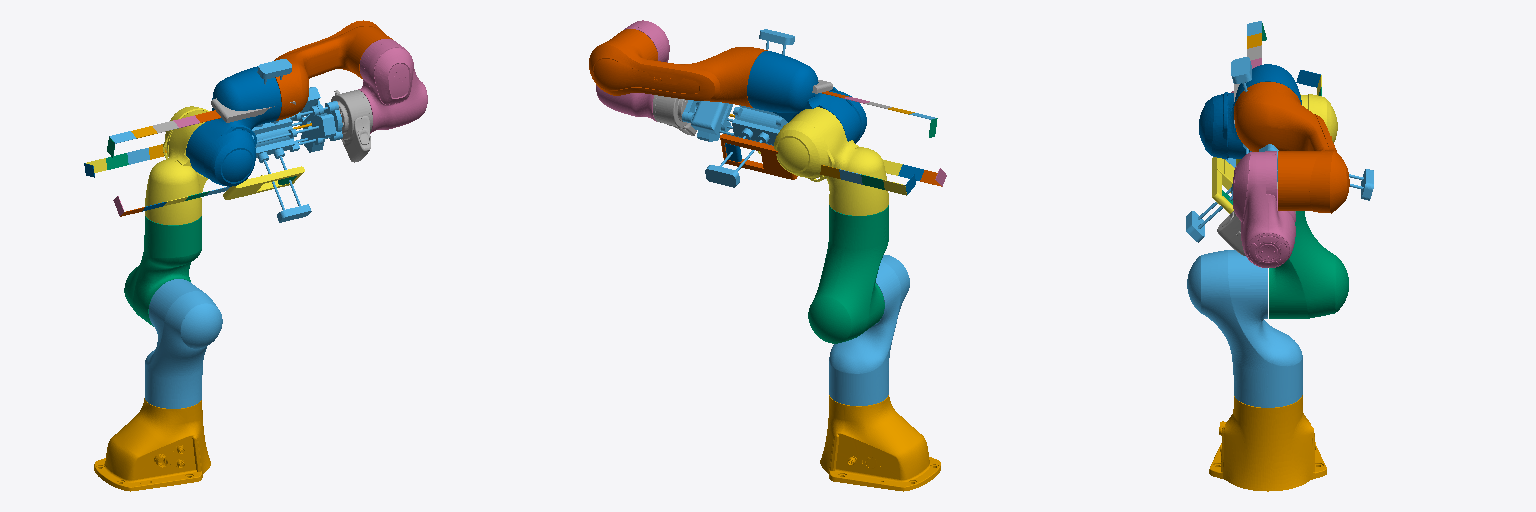
--- What the picture shows (computed from the rendered views, not written in the file) ---
Views: 3 orthographic renders of the robot side by side, from view 1: azimuth 30°, elevation 25°; view 2: azimuth 150°, elevation 25°; view 3: azimuth 270°, elevation 25°.
Model panda_and_gripper with 36 links and 35 joints (25 revolute, 4 prismatic, 6 fixed), rooted at world, posed all joints at 0 but 4 set to mid-range because 0 is outside their limits (panda_joint4 = -1.57, finger_1_prismatic_joint = 0.0915, finger_2_prismatic_joint = 0.0915, finger_3_prismatic_joint = 0.0915).
Visible links, largest first — view 1: panda_link0, panda_link1, panda_link4, panda_link6, gripper_base_link, panda_link5, panda_link2, panda_link3, panda_link7, finger_1, finger_3; view 2: panda_link0, panda_link5, panda_link2, panda_link3, panda_link1, panda_link4, gripper_base_link, panda_link6, finger_2, panda_link7; view 3: panda_link1, panda_link5, panda_link0, panda_link2, panda_link6, panda_link4, gripper_base_link, finger_1, panda_link3, panda_link7.
Link boxes in pixels (left/top/right/bottom): panda_link0: left=94, top=398, right=210, bottom=491; panda_link1: left=145, top=279, right=222, bottom=408; panda_link4: left=186, top=66, right=281, bottom=186; panda_link6: left=358, top=39, right=427, bottom=133; gripper_base_link: left=252, top=59, right=342, bottom=222; panda_link5: left=274, top=20, right=392, bottom=120; panda_link2: left=124, top=216, right=201, bottom=326; panda_link3: left=145, top=106, right=209, bottom=224; panda_link7: left=331, top=90, right=372, bottom=162; finger_1: left=223, top=166, right=304, bottom=199; finger_3: left=211, top=98, right=295, bottom=122; panda_link0: left=820, top=395, right=940, bottom=491; panda_link5: left=589, top=29, right=767, bottom=107; panda_link2: left=808, top=205, right=888, bottom=343; panda_link3: left=774, top=107, right=888, bottom=215; panda_link1: left=829, top=255, right=909, bottom=405; panda_link4: left=747, top=51, right=866, bottom=143; gripper_base_link: left=682, top=29, right=794, bottom=187; panda_link6: left=596, top=20, right=669, bottom=121; finger_2: left=720, top=134, right=797, bottom=179; panda_link7: left=653, top=95, right=696, bottom=135; panda_link1: left=1187, top=250, right=1302, bottom=407; panda_link5: left=1234, top=82, right=1349, bottom=213; panda_link0: left=1209, top=395, right=1326, bottom=491; panda_link2: left=1269, top=211, right=1348, bottom=318; panda_link6: left=1233, top=151, right=1295, bottom=267; panda_link4: left=1199, top=64, right=1301, bottom=159; gripper_base_link: left=1186, top=57, right=1373, bottom=242; finger_1: left=1212, top=157, right=1234, bottom=213; panda_link3: left=1236, top=94, right=1337, bottom=165; panda_link7: left=1217, top=182, right=1295, bottom=255.
Size in the robot's own frame: 0.7022 by 0.301 by 0.8128 metres.
Meshes: 12 distinct files referenced, 16 mesh visuals loaded (12 binary STL).

URDF robot description (panda_and_gripper):
<?xml version="1.0" ?>
<!-- =================================================================================== -->
<!-- |    This document was autogenerated by xacro from panda_and_gripper.urdf.xacro   | -->
<!-- |    EDITING THIS FILE BY HAND IS NOT RECOMMENDED                                 | -->
<!-- =================================================================================== -->
<robot name="panda_and_gripper">
  <!-- <link name="world" />
    <xacro:unless value="${not connected_to}">
      <joint name="virtual_joint" type="fixed">
        <parent link="${connected_to}"/>
        <child link="${arm_id}_link0"/>
        <origin rpy="${rpy}" xyz="${xyz}"/>
        <dynamics damping="1.0"/>
      </joint>
    </xacro:unless> -->
  <!-- PARAMETERS TO SET BY HAND -->
  <!-- END OF PARAMETERS TO SET BY HAND -->
  <!-- original working mesh links -->
  <!--    <xacro:arm_link number="0" visual_mesh="package://${mesh_folder}/visual/link0.dae"-->
  <!--      collision_mesh="package://${mesh_folder}/collision/link0.stl" mass="3.06"/>-->
  <!--    <xacro:arm_link number="1" visual_mesh="package://${mesh_folder}/visual/link1.dae"-->
  <!--      collision_mesh="package://${mesh_folder}/collision/link1.stl" mass="2.34"/>-->
  <!--    <xacro:arm_link number="2" visual_mesh="package://${mesh_folder}/visual/link2.dae"-->
  <!--      collision_mesh="package://${mesh_folder}/collision/link2.stl" mass="2.36"/>-->
  <!--    <xacro:arm_link number="3" visual_mesh="package://${mesh_folder}/visual/link3.dae"-->
  <!--      collision_mesh="package://${mesh_folder}/collision/link3.stl" mass="2.38"/>-->
  <!--    <xacro:arm_link number="4" visual_mesh="package://${mesh_folder}/visual/link4.dae"-->
  <!--      collision_mesh="package://${mesh_folder}/collision/link4.stl" mass="2.43"/>-->
  <!--    <xacro:arm_link number="5" visual_mesh="package://${mesh_folder}/visual/link5.dae"-->
  <!--      collision_mesh="package://${mesh_folder}/collision/link5.stl" mass="3.5"/>-->
  <!--    <xacro:arm_link number="6" visual_mesh="package://${mesh_folder}/visual/link6.dae"-->
  <!--      collision_mesh="package://${mesh_folder}/collision/link6.stl" mass="1.47"/>-->
  <!--    <xacro:arm_link number="7" visual_mesh="package://${mesh_folder}/visual/link7.dae"-->
  <!--      collision_mesh="package://${mesh_folder}/collision/link7.stl" mass="0.45"/>-->
  <!--     <xacro:arm_link number="8"/>-->
  <link name="panda_link0">
    <visual>
      <geometry>
        <mesh filename="package://gripper_description/meshes_panda/panda visual link0.stl"/>
      </geometry>
    </visual>
    <collision>
      <geometry>
        <mesh filename="package://gripper_description/meshes_panda/panda collision link0.stl"/>
      </geometry>
    </collision>
    <inertial>
      <origin rpy="0 0 0" xyz="0 0 0"/>
      <mass value="3.06"/>
      <inertia ixx="0.3" ixy="0.0" ixz="0.0" iyy="0.3" iyz="0.0" izz="0.3"/>
    </inertial>
  </link>
  <link name="panda_link1">
    <visual>
      <geometry>
        <mesh filename="package://gripper_description/meshes_panda/panda visual link1.stl"/>
      </geometry>
    </visual>
    <collision>
      <geometry>
        <mesh filename="package://gripper_description/meshes_panda/panda collision link1.stl"/>
      </geometry>
    </collision>
    <inertial>
      <origin rpy="0 0 0" xyz="0 0 0"/>
      <mass value="2.34"/>
      <inertia ixx="7.0337e-01" ixy="-1.3900e-04" ixz="6.7720e-03" iyy="7.0661e-01" iyz="1.9169e-02" izz="9.1170e-03"/>
    </inertial>
  </link>
  <link name="panda_link2">
    <visual>
      <geometry>
        <mesh filename="package://gripper_description/meshes_panda/panda visual link2.stl"/>
      </geometry>
    </visual>
    <collision>
      <geometry>
        <mesh filename="package://gripper_description/meshes_panda/panda collision link2.stl"/>
      </geometry>
    </collision>
    <inertial>
      <origin rpy="0 0 0" xyz="0 0 0"/>
      <mass value="2.36"/>
      <inertia ixx="7.9620e-03" ixy="-3.9250e-03" ixz="1.0254e-02" iyy="2.8110e-02" iyz="7.0400e-04" izz="2.5995e-02"/>
    </inertial>
  </link>
  <link name="panda_link3">
    <visual>
      <geometry>
        <mesh filename="package://gripper_description/meshes_panda/panda visual link3.stl"/>
      </geometry>
    </visual>
    <collision>
      <geometry>
        <mesh filename="package://gripper_description/meshes_panda/panda collision link3.stl"/>
      </geometry>
    </collision>
    <inertial>
      <origin rpy="0 0 0" xyz="0 0 0"/>
      <mass value="2.38"/>
      <inertia ixx="3.7242e-02" ixy="-4.7610e-03" ixz="-1.1396e-02" iyy="3.6155e-02" iyz="-1.2805e-02" izz="1.0830e-02"/>
    </inertial>
  </link>
  <link name="panda_link4">
    <visual>
      <geometry>
        <mesh filename="package://gripper_description/meshes_panda/panda visual link4.stl"/>
      </geometry>
    </visual>
    <collision>
      <geometry>
        <mesh filename="package://gripper_description/meshes_panda/panda collision link4.stl"/>
      </geometry>
    </collision>
    <inertial>
      <origin rpy="0 0 0" xyz="0 0 0"/>
      <mass value="2.43"/>
      <inertia ixx="2.5853e-02" ixy="7.7960e-03" ixz="-1.3320e-03" iyy="1.9552e-02" iyz="8.6410e-03" izz="2.8323e-02"/>
    </inertial>
  </link>
  <link name="panda_link5">
    <visual>
      <geometry>
        <mesh filename="package://gripper_description/meshes_panda/panda visual link5.stl"/>
      </geometry>
    </visual>
    <collision>
      <geometry>
        <mesh filename="package://gripper_description/meshes_panda/panda collision link5.stl"/>
      </geometry>
    </collision>
    <inertial>
      <origin rpy="0 0 0" xyz="0 0 0"/>
      <mass value="3.5"/>
      <inertia ixx="3.5549e-02" ixy="-2.1170e-03" ixz="-4.0370e-03" iyy="2.9474e-02" iyz="2.2900e-04" izz="8.6270e-03"/>
    </inertial>
  </link>
  <link name="panda_link6">
    <visual>
      <geometry>
        <mesh filename="package://gripper_description/meshes_panda/panda visual link6.stl"/>
      </geometry>
    </visual>
    <collision>
      <geometry>
        <mesh filename="package://gripper_description/meshes_panda/panda collision link6.stl"/>
      </geometry>
    </collision>
    <inertial>
      <origin rpy="0 0 0" xyz="0 0 0"/>
      <mass value="1.47"/>
      <inertia ixx="1.9640e-03" ixy="1.0900e-04" ixz="-1.1580e-03" iyy="4.3540e-03" iyz="3.4100e-04" izz="5.4330e-03"/>
    </inertial>
  </link>
  <link name="panda_link7">
    <visual>
      <geometry>
        <mesh filename="package://gripper_description/meshes_panda/panda visual link7.stl"/>
      </geometry>
    </visual>
    <collision>
      <geometry>
        <mesh filename="package://gripper_description/meshes_panda/panda collision link7.stl"/>
      </geometry>
    </collision>
    <inertial>
      <origin rpy="0 0 0" xyz="0 0 0"/>
      <mass value="0.45"/>
      <inertia ixx="1.2516e-02" ixy="-4.2800e-04" ixz="-1.1960e-03" iyy="1.0027e-02" iyz="-7.4100e-04" izz="4.8150e-03"/>
    </inertial>
  </link>
  <link name="panda_link8">
    <inertial>
      <origin rpy="0 0 0" xyz="0 0 0"/>
      <mass value="0.0"/>
      <inertia ixx="1e-4" ixy="0.0" ixz="0.0" iyy="1e-4" iyz="0.0" izz="1e-4"/>
    </inertial>
  </link>
  <!-- joint6 limit lower = -0.0175 -->
  <joint name="panda_joint1" type="revolute">
    <safety_controller k_position="100.0" k_velocity="40.0" soft_lower_limit="-2.8973" soft_upper_limit="2.8973"/>
    <origin rpy="0 0 0" xyz="0 0 0.333"/>
    <parent link="panda_link0"/>
    <child link="panda_link1"/>
    <limit effort="87" lower="-2.8973" upper="2.8973" velocity="2.175"/>
    <axis xyz="0 0 1"/>
    <dynamics damping="1.0" friction="0.1"/>
  </joint>
  <joint name="panda_joint2" type="revolute">
    <safety_controller k_position="100.0" k_velocity="40.0" soft_lower_limit="-1.7628" soft_upper_limit="1.7628"/>
    <origin rpy="-1.5707963267948966 0 0" xyz="0 0 0"/>
    <parent link="panda_link1"/>
    <child link="panda_link2"/>
    <limit effort="87" lower="-1.7628" upper="1.7628" velocity="2.175"/>
    <axis xyz="0 0 1"/>
    <dynamics damping="1.0" friction="0.1"/>
  </joint>
  <joint name="panda_joint3" type="revolute">
    <safety_controller k_position="100.0" k_velocity="40.0" soft_lower_limit="-2.8973" soft_upper_limit="2.8973"/>
    <origin rpy="1.5707963267948966 0 0" xyz="0 -0.316 0"/>
    <parent link="panda_link2"/>
    <child link="panda_link3"/>
    <limit effort="87" lower="-2.8973" upper="2.8973" velocity="2.175"/>
    <axis xyz="0 0 1"/>
    <dynamics damping="1.0" friction="0.1"/>
  </joint>
  <joint name="panda_joint4" type="revolute">
    <safety_controller k_position="100.0" k_velocity="40.0" soft_lower_limit="-3.0718" soft_upper_limit="-0.0698"/>
    <origin rpy="1.5707963267948966 0 0" xyz="0.0825 0 0"/>
    <parent link="panda_link3"/>
    <child link="panda_link4"/>
    <limit effort="87" lower="-3.0718" upper="-0.0698" velocity="2.175"/>
    <axis xyz="0 0 1"/>
    <dynamics damping="1.0" friction="0.1"/>
  </joint>
  <joint name="panda_joint5" type="revolute">
    <safety_controller k_position="100.0" k_velocity="40.0" soft_lower_limit="-2.8973" soft_upper_limit="2.8973"/>
    <origin rpy="-1.5707963267948966 0 0" xyz="-0.0825 0.384 0"/>
    <parent link="panda_link4"/>
    <child link="panda_link5"/>
    <limit effort="12" lower="-2.8973" upper="2.8973" velocity="2.61"/>
    <axis xyz="0 0 1"/>
    <dynamics damping="1.0" friction="0.1"/>
  </joint>
  <joint name="panda_joint6" type="revolute">
    <safety_controller k_position="100.0" k_velocity="40.0" soft_lower_limit="-0.0175" soft_upper_limit="3.7525"/>
    <origin rpy="1.5707963267948966 0 0" xyz="0 0 0"/>
    <parent link="panda_link5"/>
    <child link="panda_link6"/>
    <limit effort="12" lower="-0.0175" upper="3.7525" velocity="2.61"/>
    <axis xyz="0 0 1"/>
    <dynamics damping="1.0" friction="0.1"/>
  </joint>
  <joint name="panda_joint7" type="revolute">
    <safety_controller k_position="100.0" k_velocity="40.0" soft_lower_limit="-2.8973" soft_upper_limit="2.8973"/>
    <origin rpy="1.5707963267948966 0 0" xyz="0.088 0 0"/>
    <parent link="panda_link6"/>
    <child link="panda_link7"/>
    <limit effort="12" lower="-2.8973" upper="2.8973" velocity="2.61"/>
    <axis xyz="0 0 1"/>
    <dynamics damping="1.0" friction="0.1"/>
  </joint>
  <joint name="panda_joint8" type="fixed">
    <origin rpy="0 0 0" xyz="0 0 0.107"/>
    <parent link="panda_link7"/>
    <child link="panda_link8"/>
    <axis xyz="0 0 0"/>
    <dynamics damping="1.0" friction="0.1"/>
  </joint>
  <gazebo reference="panda_link0">
    <material>Gazebo/White</material>
    <mu1>0.2</mu1>
    <mu2>0.2</mu2>
  </gazebo>
  <gazebo reference="panda_link1">
    <material>Gazebo/White</material>
    <mu1>0.2</mu1>
    <mu2>0.2</mu2>
  </gazebo>
  <gazebo reference="panda_link2">
    <material>Gazebo/White</material>
    <mu1>0.2</mu1>
    <mu2>0.2</mu2>
  </gazebo>
  <gazebo reference="panda_link3">
    <material>Gazebo/White</material>
    <mu1>0.2</mu1>
    <mu2>0.2</mu2>
  </gazebo>
  <gazebo reference="panda_link4">
    <material>Gazebo/White</material>
    <mu1>0.2</mu1>
    <mu2>0.2</mu2>
  </gazebo>
  <gazebo reference="panda_link5">
    <material>Gazebo/White</material>
    <mu1>0.2</mu1>
    <mu2>0.2</mu2>
  </gazebo>
  <gazebo reference="panda_link6">
    <material>Gazebo/White</material>
    <mu1>0.2</mu1>
    <mu2>0.2</mu2>
  </gazebo>
  <gazebo reference="gripper_base_link">
    <material>Gazebo/Grey</material>
    <mu1>0.2</mu1>
    <mu2>0.2</mu2>
  </gazebo>
  <gazebo reference="finger_1_intermediate">
    <material>Gazebo/Grey</material>
    <mu1>0.2</mu1>
    <mu2>0.2</mu2>
  </gazebo>
  <gazebo reference="finger_1">
    <material>Gazebo/Grey</material>
    <mu1>0.2</mu1>
    <mu2>0.2</mu2>
  </gazebo>
  <gazebo reference="finger_2_intermediate">
    <material>Gazebo/Grey</material>
    <mu1>0.2</mu1>
    <mu2>0.2</mu2>
  </gazebo>
  <gazebo reference="finger_2">
    <material>Gazebo/Grey</material>
    <mu1>0.2</mu1>
    <mu2>0.2</mu2>
  </gazebo>
  <gazebo reference="finger_3_intermediate">
    <material>Gazebo/Grey</material>
    <mu1>0.2</mu1>
    <mu2>0.2</mu2>
  </gazebo>
  <gazebo reference="finger_3">
    <material>Gazebo/Grey</material>
    <mu1>0.2</mu1>
    <mu2>0.2</mu2>
  </gazebo>
  <gazebo reference="palm">
    <material>Gazebo/Grey</material>
    <mu1>0.2</mu1>
    <mu2>0.2</mu2>
  </gazebo>
  <transmission name="panda_tran_1">
    <type>transmission_interface/SimpleTransmission</type>
    <joint name="panda_joint1">
      <!-- <hardwareInterface>hardware_interface/EffortJointInterface</hardwareInterface> -->
      <hardwareInterface>hardware_interface/PositionJointInterface</hardwareInterface>
    </joint>
    <actuator name="panda_motor_1">
      <!-- <hardwareInterface>hardware_interface/EffortJointInterface</hardwareInterface> -->
      <hardwareInterface>hardware_interface/PositionJointInterface</hardwareInterface>
      <mechanicalReduction>1</mechanicalReduction>
    </actuator>
  </transmission>
  <transmission name="panda_tran_2">
    <type>transmission_interface/SimpleTransmission</type>
    <joint name="panda_joint2">
      <!-- <hardwareInterface>hardware_interface/EffortJointInterface</hardwareInterface> -->
      <hardwareInterface>hardware_interface/PositionJointInterface</hardwareInterface>
    </joint>
    <actuator name="panda_motor_2">
      <!-- <hardwareInterface>hardware_interface/EffortJointInterface</hardwareInterface> -->
      <hardwareInterface>hardware_interface/PositionJointInterface</hardwareInterface>
      <mechanicalReduction>1</mechanicalReduction>
    </actuator>
  </transmission>
  <transmission name="panda_tran_3">
    <type>transmission_interface/SimpleTransmission</type>
    <joint name="panda_joint3">
      <!-- <hardwareInterface>hardware_interface/EffortJointInterface</hardwareInterface> -->
      <hardwareInterface>hardware_interface/PositionJointInterface</hardwareInterface>
    </joint>
    <actuator name="panda_motor_3">
      <!-- <hardwareInterface>hardware_interface/EffortJointInterface</hardwareInterface> -->
      <hardwareInterface>hardware_interface/PositionJointInterface</hardwareInterface>
      <mechanicalReduction>1</mechanicalReduction>
    </actuator>
  </transmission>
  <transmission name="panda_tran_4">
    <type>transmission_interface/SimpleTransmission</type>
    <joint name="panda_joint4">
      <!-- <hardwareInterface>hardware_interface/EffortJointInterface</hardwareInterface> -->
      <hardwareInterface>hardware_interface/PositionJointInterface</hardwareInterface>
    </joint>
    <actuator name="panda_motor_4">
      <!-- <hardwareInterface>hardware_interface/EffortJointInterface</hardwareInterface> -->
      <hardwareInterface>hardware_interface/PositionJointInterface</hardwareInterface>
      <mechanicalReduction>1</mechanicalReduction>
    </actuator>
  </transmission>
  <transmission name="panda_tran_5">
    <type>transmission_interface/SimpleTransmission</type>
    <joint name="panda_joint5">
      <!-- <hardwareInterface>hardware_interface/EffortJointInterface</hardwareInterface> -->
      <hardwareInterface>hardware_interface/PositionJointInterface</hardwareInterface>
    </joint>
    <actuator name="panda_motor_5">
      <!-- <hardwareInterface>hardware_interface/EffortJointInterface</hardwareInterface> -->
      <hardwareInterface>hardware_interface/PositionJointInterface</hardwareInterface>
      <mechanicalReduction>1</mechanicalReduction>
    </actuator>
  </transmission>
  <transmission name="panda_tran_6">
    <type>transmission_interface/SimpleTransmission</type>
    <joint name="panda_joint6">
      <!-- <hardwareInterface>hardware_interface/EffortJointInterface</hardwareInterface> -->
      <hardwareInterface>hardware_interface/PositionJointInterface</hardwareInterface>
    </joint>
    <actuator name="panda_motor_6">
      <!-- <hardwareInterface>hardware_interface/EffortJointInterface</hardwareInterface> -->
      <hardwareInterface>hardware_interface/PositionJointInterface</hardwareInterface>
      <mechanicalReduction>1</mechanicalReduction>
    </actuator>
  </transmission>
  <transmission name="panda_tran_7">
    <type>transmission_interface/SimpleTransmission</type>
    <joint name="panda_joint7">
      <!-- <hardwareInterface>hardware_interface/EffortJointInterface</hardwareInterface> -->
      <hardwareInterface>hardware_interface/PositionJointInterface</hardwareInterface>
    </joint>
    <actuator name="panda_motor_7">
      <!-- <hardwareInterface>hardware_interface/EffortJointInterface</hardwareInterface> -->
      <hardwareInterface>hardware_interface/PositionJointInterface</hardwareInterface>
      <mechanicalReduction>1</mechanicalReduction>
    </actuator>
  </transmission>
  <transmission name="panda_tran_8">
    <type>transmission_interface/SimpleTransmission</type>
    <joint name="finger_1_revolute_joint">
      <!-- <hardwareInterface>hardware_interface/EffortJointInterface</hardwareInterface> -->
      <hardwareInterface>hardware_interface/PositionJointInterface</hardwareInterface>
    </joint>
    <actuator name="panda_motor_8">
      <!-- <hardwareInterface>hardware_interface/EffortJointInterface</hardwareInterface> -->
      <hardwareInterface>hardware_interface/PositionJointInterface</hardwareInterface>
      <mechanicalReduction>1</mechanicalReduction>
    </actuator>
  </transmission>
  <transmission name="panda_tran_9">
    <type>transmission_interface/SimpleTransmission</type>
    <joint name="finger_1_prismatic_joint">
      <!-- <hardwareInterface>hardware_interface/EffortJointInterface</hardwareInterface> -->
      <hardwareInterface>hardware_interface/PositionJointInterface</hardwareInterface>
    </joint>
    <actuator name="panda_motor_9">
      <!-- <hardwareInterface>hardware_interface/EffortJointInterface</hardwareInterface> -->
      <hardwareInterface>hardware_interface/PositionJointInterface</hardwareInterface>
      <mechanicalReduction>1</mechanicalReduction>
    </actuator>
  </transmission>
  <transmission name="panda_tran_10">
    <type>transmission_interface/SimpleTransmission</type>
    <joint name="finger_2_revolute_joint">
      <!-- <hardwareInterface>hardware_interface/EffortJointInterface</hardwareInterface> -->
      <hardwareInterface>hardware_interface/PositionJointInterface</hardwareInterface>
    </joint>
    <actuator name="panda_motor_10">
      <!-- <hardwareInterface>hardware_interface/EffortJointInterface</hardwareInterface> -->
      <hardwareInterface>hardware_interface/PositionJointInterface</hardwareInterface>
      <mechanicalReduction>1</mechanicalReduction>
    </actuator>
  </transmission>
  <transmission name="panda_tran_11">
    <type>transmission_interface/SimpleTransmission</type>
    <joint name="finger_2_prismatic_joint">
      <!-- <hardwareInterface>hardware_interface/EffortJointInterface</hardwareInterface> -->
      <hardwareInterface>hardware_interface/PositionJointInterface</hardwareInterface>
    </joint>
    <actuator name="panda_motor_11">
      <!-- <hardwareInterface>hardware_interface/EffortJointInterface</hardwareInterface> -->
      <hardwareInterface>hardware_interface/PositionJointInterface</hardwareInterface>
      <mechanicalReduction>1</mechanicalReduction>
    </actuator>
  </transmission>
  <transmission name="panda_tran_12">
    <type>transmission_interface/SimpleTransmission</type>
    <joint name="finger_3_revolute_joint">
      <!-- <hardwareInterface>hardware_interface/EffortJointInterface</hardwareInterface> -->
      <hardwareInterface>hardware_interface/PositionJointInterface</hardwareInterface>
    </joint>
    <actuator name="panda_motor_12">
      <!-- <hardwareInterface>hardware_interface/EffortJointInterface</hardwareInterface> -->
      <hardwareInterface>hardware_interface/PositionJointInterface</hardwareInterface>
      <mechanicalReduction>1</mechanicalReduction>
    </actuator>
  </transmission>
  <transmission name="panda_tran_13">
    <type>transmission_interface/SimpleTransmission</type>
    <joint name="finger_3_prismatic_joint">
      <!-- <hardwareInterface>hardware_interface/EffortJointInterface</hardwareInterface> -->
      <hardwareInterface>hardware_interface/PositionJointInterface</hardwareInterface>
    </joint>
    <actuator name="panda_motor_13">
      <!-- <hardwareInterface>hardware_interface/EffortJointInterface</hardwareInterface> -->
      <hardwareInterface>hardware_interface/PositionJointInterface</hardwareInterface>
      <mechanicalReduction>1</mechanicalReduction>
    </actuator>
  </transmission>
  <transmission name="panda_tran_14">
    <type>transmission_interface/SimpleTransmission</type>
    <joint name="palm_prismatic_joint">
      <!-- <hardwareInterface>hardware_interface/EffortJointInterface</hardwareInterface> -->
      <hardwareInterface>hardware_interface/PositionJointInterface</hardwareInterface>
    </joint>
    <actuator name="panda_motor_14">
      <!-- <hardwareInterface>hardware_interface/EffortJointInterface</hardwareInterface> -->
      <hardwareInterface>hardware_interface/PositionJointInterface</hardwareInterface>
      <mechanicalReduction>1</mechanicalReduction>
    </actuator>
  </transmission>
  <gazebo>
    <plugin filename="libgazebo_ros_control.so" name="gazebo_ros_control">
      <!--            	<robotNamespace>/gripper_controller</robotNamespace>-->
    </plugin>
  </gazebo>
  <!-- PARAMETERS TO BE SET BY HAND -->
  <!-- END OF PARAMETERS TO BE SET BY HAND -->
  <!-- PARAMETERS TO BE SET BY HAND -->
  <!-- END OF PARAMETER TO BE SET BY HAND -->
  <!-- BASE LINK -->
  <link name="gripper_base_link">
    <inertial>
      <mass value="1.5"/>
      <origin rpy="3.141592653589793 0 0" xyz="0 0 0.025"/>
      <inertia ixx="9.95e-3" ixy="2.73e-6" ixz="-14.32e-6" iyy="10.08e-3" iyz="121.38e-6" izz="5.13e-3"/>
    </inertial>
    <visual>
      <geometry>
        <mesh filename="package://gripper_description/meshes/main body visual.STL"/>
      </geometry>
    </visual>
    <collision>
      <geometry>
        <!--          <mesh filename="package://gripper_description/meshes/main body collision.STL"/>-->
        <cylinder length="0.1" radius="0.03"/>
      </geometry>
    </collision>
  </link>
  <!-- Intermediate link for prismatic joint -->
  <link name="finger_1_intermediate">
    <inertial>
      <mass value="0.1"/>
      <origin rpy="0 0 0" xyz="0 0 0"/>
      <inertia ixx="55.59e-6" ixy="-47.23e-6" ixz="1.16e-6" iyy="146.36e-6" iyz="1.00e-6" izz="154.18e-6"/>
    </inertial>
    <visual>
      <geometry>
        <mesh filename="package://gripper_description/meshes/nut visual.STL"/>
      </geometry>
    </visual>
    <collision>
      <geometry>
        <mesh filename="package://gripper_description/meshes/nut collision.STL"/>
      </geometry>
    </collision>
  </link>
  <!-- Main finger link -->
  <link name="finger_1">
    <inertial>
      <mass value="0.1"/>
      <origin rpy="0 0 0" xyz="0 0 0"/>
      <inertia ixx="55.59e-6" ixy="-47.23e-6" ixz="1.16e-6" iyy="146.36e-6" iyz="1.00e-6" izz="154.18e-6"/>
    </inertial>
    <visual>
      <geometry>
        <mesh filename="package://gripper_description/meshes/platform only visual.STL"/>
      </geometry>
    </visual>
    <collision>
      <geometry>
        <mesh filename="package://gripper_description/meshes/platform only collision.STL"/>
      </geometry>
    </collision>
  </link>
  <joint name="finger_1_prismatic_joint" type="prismatic">
    <axis rpy="0 0 0" xyz="0 1 0"/>
    <parent link="gripper_base_link"/>
    <child link="finger_1_intermediate"/>
    <origin rpy="4.71238898038469                    4.71238898038469                    1.5707963267948966" xyz="0.0                    0.0                    0"/>
    <limit effort="40.0" lower="0.049" upper="0.134" velocity="0.015"/>
    <dynamics damping="1.0"/>
  </joint>
  <joint name="finger_1_revolute_joint" type="revolute">
    <axis rpy="0 0 0" xyz="0 0 1"/>
    <parent link="finger_1_intermediate"/>
    <child link="finger_1"/>
    <origin rpy="0 0 0.0" xyz="0 0 0"/>
    <limit effort="40.0" lower="-0.7" upper="0.7" velocity="0.1"/>
    <dynamics damping="1.0"/>
  </joint>
  <!-- Intermediate link for prismatic joint -->
  <link name="finger_2_intermediate">
    <inertial>
      <mass value="0.1"/>
      <origin rpy="0 0 0" xyz="0 0 0"/>
      <inertia ixx="55.59e-6" ixy="-47.23e-6" ixz="1.16e-6" iyy="146.36e-6" iyz="1.00e-6" izz="154.18e-6"/>
    </inertial>
    <visual>
      <geometry>
        <mesh filename="package://gripper_description/meshes/nut visual.STL"/>
      </geometry>
    </visual>
    <collision>
      <geometry>
        <mesh filename="package://gripper_description/meshes/nut collision.STL"/>
      </geometry>
    </collision>
  </link>
  <!-- Main finger link -->
  <link name="finger_2">
    <inertial>
      <mass value="0.1"/>
      <origin rpy="0 0 0" xyz="0 0 0"/>
      <inertia ixx="55.59e-6" ixy="-47.23e-6" ixz="1.16e-6" iyy="146.36e-6" iyz="1.00e-6" izz="154.18e-6"/>
    </inertial>
    <visual>
      <geometry>
        <mesh filename="package://gripper_description/meshes/platform only visual.STL"/>
      </geometry>
    </visual>
    <collision>
      <geometry>
        <mesh filename="package://gripper_description/meshes/platform only collision.STL"/>
      </geometry>
    </collision>
  </link>
  <joint name="finger_2_prismatic_joint" type="prismatic">
    <axis rpy="0 0 0" xyz="0 1 0"/>
    <parent link="gripper_base_link"/>
    <child link="finger_2_intermediate"/>
    <origin rpy="4.71238898038469                    4.71238898038469                    -0.5235987755982987" xyz="0.0                    -0.0                    0"/>
    <limit effort="40.0" lower="0.049" upper="0.134" velocity="0.015"/>
    <dynamics damping="1.0"/>
  </joint>
  <joint name="finger_2_revolute_joint" type="revolute">
    <axis rpy="0 0 0" xyz="0 0 1"/>
    <parent link="finger_2_intermediate"/>
    <child link="finger_2"/>
    <origin rpy="0 0 0.0" xyz="0 0 0"/>
    <limit effort="40.0" lower="-0.7" upper="0.7" velocity="0.1"/>
    <dynamics damping="1.0"/>
  </joint>
  <!-- Intermediate link for prismatic joint -->
  <link name="finger_3_intermediate">
    <inertial>
      <mass value="0.1"/>
      <origin rpy="0 0 0" xyz="0 0 0"/>
      <inertia ixx="55.59e-6" ixy="-47.23e-6" ixz="1.16e-6" iyy="146.36e-6" iyz="1.00e-6" izz="154.18e-6"/>
    </inertial>
    <visual>
      <geometry>
        <mesh filename="package://gripper_description/meshes/nut visual.STL"/>
      </geometry>
    </visual>
    <collision>
      <geometry>
        <mesh filename="package://gripper_description/meshes/nut collision.STL"/>
      </geometry>
    </collision>
  </link>
  <!-- Main finger link -->
  <link name="finger_3">
    <inertial>
      <mass value="0.1"/>
      <origin rpy="0 0 0" xyz="0 0 0"/>
      <inertia ixx="55.59e-6" ixy="-47.23e-6" ixz="1.16e-6" iyy="146.36e-6" iyz="1.00e-6" izz="154.18e-6"/>
    </inertial>
    <visual>
      <geometry>
        <mesh filename="package://gripper_description/meshes/platform only visual.STL"/>
      </geometry>
    </visual>
    <collision>
      <geometry>
        <mesh filename="package://gripper_description/meshes/platform only collision.STL"/>
      </geometry>
    </collision>
  </link>
  <joint name="finger_3_prismatic_joint" type="prismatic">
    <axis rpy="0 0 0" xyz="0 1 0"/>
    <parent link="gripper_base_link"/>
    <child link="finger_3_intermediate"/>
    <origin rpy="4.71238898038469                    4.71238898038469                    -2.617993877991494" xyz="-0.0                    -0.0                    0"/>
    <limit effort="40.0" lower="0.049" upper="0.134" velocity="0.015"/>
    <dynamics damping="1.0"/>
  </joint>
  <joint name="finger_3_revolute_joint" type="revolute">
    <axis rpy="0 0 0" xyz="0 0 1"/>
    <parent link="finger_3_intermediate"/>
    <child link="finger_3"/>
    <origin rpy="0 0 0.0" xyz="0 0 0"/>
    <limit effort="40.0" lower="-0.7" upper="0.7" velocity="0.1"/>
    <dynamics damping="1.0"/>
  </joint>
  <!-- PALM -->
  <link name="palm">
    <inertial>
      <mass value="0.05"/>
      <origin rpy="0 0 0" xyz="0 0 0"/>
      <inertia ixx="10.0e-6" ixy="0.0" ixz="0.0" iyy="10.0e-6" iyz="0.0" izz="10.0e-6"/>
    </inertial>
    <visual>
      <origin rpy="0 0 0" xyz="0 0 0"/>
      <geometry>
        <mesh filename="package://gripper_description/meshes/palm visual.STL"/>
      </geometry>
    </visual>
    <collision>
      <geometry>
        <mesh filename="package://gripper_description/meshes/palm collision.STL"/>
      </geometry>
    </collision>
  </link>
  <joint name="palm_prismatic_joint" type="prismatic">
    <axis rpy="0 0 0" xyz="1 0 0"/>
    <parent link="gripper_base_link"/>
    <child link="palm"/>
    <origin rpy="0 -1.5707963267948966 0" xyz="0 0 0"/>
    <limit effort="40.0" lower="0.0" upper="0.165" velocity="0.036"/>
    <dynamics damping="1.0"/>
  </joint>
  <!-- PARAMETERS TO BE SET BY HAND -->
  <!-- END OF PARAMETERS TO BE SET BY HAND -->
  <joint name="finger_1_segment_joint_0" type="revolute">
    <origin rpy="1.5707963267948966 0 0" xyz="0.129 -0.007 0"/>
    <parent link="finger_1"/>
    <child link="finger_1_segment_link_1"/>
    <axis rpy="0 0 0" xyz="0 1 0"/>
    <limit effort="1000.0" lower="-1.0" upper="1.0" velocity="1.0"/>
    <dynamics damping="0.01" friction="0.0"/>
  </joint>
  <!-- END TESTING OF BASE JOINT (rather than fixed) -->
  <link name="finger_1_segment_link_1">
    <inertial>
      <mass value="0.013055555555555555"/>
      <inertia ixx="3.137739583333333e-05" ixy="0.00" ixz="0.00" iyy="0.00048070609953703705" iyz="0.00" izz="0.0005119953703703703"/>
    </inertial>
    <visual>
      <origin rpy="0 0 0" xyz="0.0235 0 0"/>
      <geometry>
        <box size="0.047 0.024 0.0009"/>
      </geometry>
    </visual>
    <collision>
      <origin rpy="0 0 0" xyz="0.0235 0 0"/>
      <geometry>
        <box size="0.047 0.024 0.0009"/>
      </geometry>
    </collision>
  </link>
  <gazebo reference="finger_1_segment_link_1">
    <material>Gazebo/Orange</material>
    <mu1>0.1</mu1>
    <mu2>0.1</mu2>
    <maxVel>0.0</maxVel>
    <minDepth>0.001</minDepth>
    <!-- <kp>100</kp>
        <kd>1</kd> -->
  </gazebo>
  <link name="finger_1_segment_link_2">
    <inertial>
      <mass value="0.013055555555555555"/>
      <inertia ixx="3.137739583333333e-05" ixy="0.00" ixz="0.00" iyy="0.00048070609953703705" iyz="0.00" izz="0.0005119953703703703"/>
    </inertial>
    <visual>
      <origin rpy="0 0 0" xyz="0.0235 0 0"/>
      <geometry>
        <box size="0.047 0.024 0.0009"/>
      </geometry>
    </visual>
    <collision>
      <origin rpy="0 0 0" xyz="0.0235 0 0"/>
      <geometry>
        <box size="0.047 0.024 0.0009"/>
      </geometry>
    </collision>
  </link>
  <gazebo reference="finger_1_segment_link_2">
    <material>Gazebo/Orange</material>
    <mu1>0.1</mu1>
    <mu2>0.1</mu2>
    <maxVel>0.0</maxVel>
    <minDepth>0.001</minDepth>
    <!-- <kp>100</kp>
        <kd>1</kd> -->
  </gazebo>
  <!-- bending joint -->
  <joint name="finger_1_segment_joint_1" type="revolute">
    <axis rpy="0 0 0" xyz="0 1 0"/>
    <parent link="finger_1_segment_link_1"/>
    <child link="finger_1_segment_link_2"/>
    <origin rpy="0 0 0" xyz="0.047 0 0"/>
    <limit effort="1000.0" lower="-1.0" upper="1.0" velocity="1.0"/>
    <dynamics damping="0.01" friction="0.0"/>
  </joint>
  <gazebo reference="finger_1_segment_joint_1">
    <provideFeedback>1</provideFeedback>
    <springReference>0.0</springReference>
    <implicitSpringDamper>1</implicitSpringDamper>
    <springStiffness>3.0</springStiffness>
  </gazebo>
  <!-- set transmission for gazebo ROS controllers-->
  <transmission name="finger_1_segment_tran_1">
    <type>transmission_interface/SimpleTransmission</type>
    <joint name="finger_1_segment_joint_1">
      <hardwareInterface>hardware_interface/EffortJointInterface</hardwareInterface>
    </joint>
    <actuator name="finger_1_segment_motor_1">
      <hardwareInterface>hardware_interface/EffortJointInterface</hardwareInterface>
      <mechanicalReduction>1</mechanicalReduction>
    </actuator>
  </transmission>
  <link name="finger_1_segment_link_3">
    <inertial>
      <mass value="0.013055555555555555"/>
      <inertia ixx="3.137739583333333e-05" ixy="0.00" ixz="0.00" iyy="0.00048070609953703705" iyz="0.00" izz="0.0005119953703703703"/>
    </inertial>
    <visual>
      <origin rpy="0 0 0" xyz="0.0235 0 0"/>
      <geometry>
        <box size="0.047 0.024 0.0009"/>
      </geometry>
    </visual>
    <collision>
      <origin rpy="0 0 0" xyz="0.0235 0 0"/>
      <geometry>
        <box size="0.047 0.024 0.0009"/>
      </geometry>
    </collision>
  </link>
  <gazebo reference="finger_1_segment_link_3">
    <material>Gazebo/Orange</material>
    <mu1>0.1</mu1>
    <mu2>0.1</mu2>
    <maxVel>0.0</maxVel>
    <minDepth>0.001</minDepth>
    <!-- <kp>100</kp>
        <kd>1</kd> -->
  </gazebo>
  <!-- bending joint -->
  <joint name="finger_1_segment_joint_2" type="revolute">
    <axis rpy="0 0 0" xyz="0 1 0"/>
    <parent link="finger_1_segment_link_2"/>
    <child link="finger_1_segment_link_3"/>
    <origin rpy="0 0 0" xyz="0.047 0 0"/>
    <limit effort="1000.0" lower="-1.0" upper="1.0" velocity="1.0"/>
    <dynamics damping="0.01" friction="0.0"/>
  </joint>
  <gazebo reference="finger_1_segment_joint_2">
    <provideFeedback>1</provideFeedback>
    <springReference>0.0</springReference>
    <implicitSpringDamper>1</implicitSpringDamper>
    <springStiffness>3.0</springStiffness>
  </gazebo>
  <!-- set transmission for gazebo ROS controllers-->
  <transmission name="finger_1_segment_tran_2">
    <type>transmission_interface/SimpleTransmission</type>
    <joint name="finger_1_segment_joint_2">
      <hardwareInterface>hardware_interface/EffortJointInterface</hardwareInterface>
    </joint>
    <actuator name="finger_1_segment_motor_2">
      <hardwareInterface>hardware_interface/EffortJointInterface</hardwareInterface>
      <mechanicalReduction>1</mechanicalReduction>
    </actuator>
  </transmission>
  <link name="finger_1_segment_link_4">
    <inertial>
      <mass value="0.013055555555555555"/>
      <inertia ixx="3.137739583333333e-05" ixy="0.00" ixz="0.00" iyy="0.00048070609953703705" iyz="0.00" izz="0.0005119953703703703"/>
    </inertial>
    <visual>
      <origin rpy="0 0 0" xyz="0.0235 0 0"/>
      <geometry>
        <box size="0.047 0.024 0.0009"/>
      </geometry>
    </visual>
    <collision>
      <origin rpy="0 0 0" xyz="0.0235 0 0"/>
      <geometry>
        <box size="0.047 0.024 0.0009"/>
      </geometry>
    </collision>
  </link>
  <gazebo reference="finger_1_segment_link_4">
    <material>Gazebo/Orange</material>
    <mu1>0.1</mu1>
    <mu2>0.1</mu2>
    <maxVel>0.0</maxVel>
    <minDepth>0.001</minDepth>
    <!-- <kp>100</kp>
        <kd>1</kd> -->
  </gazebo>
  <!-- bending joint -->
  <joint name="finger_1_segment_joint_3" type="revolute">
    <axis rpy="0 0 0" xyz="0 1 0"/>
    <parent link="finger_1_segment_link_3"/>
    <child link="finger_1_segment_link_4"/>
    <origin rpy="0 0 0" xyz="0.047 0 0"/>
    <limit effort="1000.0" lower="-1.0" upper="1.0" velocity="1.0"/>
    <dynamics damping="0.01" friction="0.0"/>
  </joint>
  <gazebo reference="finger_1_segment_joint_3">
    <provideFeedback>1</provideFeedback>
    <springReference>0.0</springReference>
    <implicitSpringDamper>1</implicitSpringDamper>
    <springStiffness>3.0</springStiffness>
  </gazebo>
  <!-- set transmission for gazebo ROS controllers-->
  <transmission name="finger_1_segment_tran_3">
    <type>transmission_interface/SimpleTransmission</type>
    <joint name="finger_1_segment_joint_3">
      <hardwareInterface>hardware_interface/EffortJointInterface</hardwareInterface>
    </joint>
    <actuator name="finger_1_segment_motor_3">
      <hardwareInterface>hardware_interface/EffortJointInterface</hardwareInterface>
      <mechanicalReduction>1</mechanicalReduction>
    </actuator>
  </transmission>
  <link name="finger_1_segment_link_5">
    <inertial>
      <mass value="0.013055555555555555"/>
      <inertia ixx="3.137739583333333e-05" ixy="0.00" ixz="0.00" iyy="0.00048070609953703705" iyz="0.00" izz="0.0005119953703703703"/>
    </inertial>
    <visual>
      <origin rpy="0 0 0" xyz="0.0235 0 0"/>
      <geometry>
        <box size="0.047 0.024 0.0009"/>
      </geometry>
    </visual>
    <collision>
      <origin rpy="0 0 0" xyz="0.0235 0 0"/>
      <geometry>
        <box size="0.047 0.024 0.0009"/>
      </geometry>
    </collision>
  </link>
  <gazebo reference="finger_1_segment_link_5">
    <material>Gazebo/Orange</material>
    <mu1>0.1</mu1>
    <mu2>0.1</mu2>
    <maxVel>0.0</maxVel>
    <minDepth>0.001</minDepth>
    <!-- <kp>100</kp>
        <kd>1</kd> -->
  </gazebo>
  <!-- bending joint -->
  <joint name="finger_1_segment_joint_4" type="revolute">
    <axis rpy="0 0 0" xyz="0 1 0"/>
    <parent link="finger_1_segment_link_4"/>
    <child link="finger_1_segment_link_5"/>
    <origin rpy="0 0 0" xyz="0.047 0 0"/>
    <limit effort="1000.0" lower="-1.0" upper="1.0" velocity="1.0"/>
    <dynamics damping="0.01" friction="0.0"/>
  </joint>
  <gazebo reference="finger_1_segment_joint_4">
    <provideFeedback>1</provideFeedback>
    <springReference>0.0</springReference>
    <implicitSpringDamper>1</implicitSpringDamper>
    <springStiffness>3.0</springStiffness>
  </gazebo>
  <!-- set transmission for gazebo ROS controllers-->
  <transmission name="finger_1_segment_tran_4">
    <type>transmission_interface/SimpleTransmission</type>
    <joint name="finger_1_segment_joint_4">
      <hardwareInterface>hardware_interface/EffortJointInterface</hardwareInterface>
    </joint>
    <actuator name="finger_1_segment_motor_4">
      <hardwareInterface>hardware_interface/EffortJointInterface</hardwareInterface>
      <mechanicalReduction>1</mechanicalReduction>
    </actuator>
  </transmission>
  <!-- Add the finger hook link -->
  <link name="finger_1_finger_hook_link">
    <inertial>
      <mass value="0.009722222222222222"/>
      <inertia ixx="2.336614583333333e-05" ixy="0.00" ixz="0.00" iyy="0.00019852818287037038" iyz="0.00" izz="0.00022182870370370374"/>
    </inertial>
    <visual>
      <origin rpy="0 0 0" xyz="0.0175 0 0"/>
      <geometry>
        <box size="0.035 0.024 0.0009"/>
      </geometry>
    </visual>
    <collision>
      <origin rpy="0 0 0" xyz="0.0175 0 0"/>
      <geometry>
        <box size="0.035 0.024 0.0009"/>
      </geometry>
    </collision>
  </link>
  <gazebo reference="finger_1_finger_hook_link">
    <material>Gazebo/Orange</material>
    <mu1>0.1</mu1>
    <mu2>0.1</mu2>
    <maxVel>0.0</maxVel>
    <minDepth>0.001</minDepth>
    <!-- <kp>100</kp>
        <kd>1</kd> -->
  </gazebo>
  <joint name="finger_1_finger_hook_joint" type="fixed">
    <parent link="finger_1_segment_link_5"/>
    <child link="finger_1_finger_hook_link"/>
    <origin rpy="0 -1.5707963267948502 0" xyz="0.047 0 0"/>
  </joint>
  <!-- PARAMETERS TO BE SET BY HAND -->
  <!-- END OF PARAMETERS TO BE SET BY HAND -->
  <joint name="finger_2_segment_joint_0" type="revolute">
    <origin rpy="1.5707963267948966 0 0" xyz="0.129 -0.007 0"/>
    <parent link="finger_2"/>
    <child link="finger_2_segment_link_1"/>
    <axis rpy="0 0 0" xyz="0 1 0"/>
    <limit effort="1000.0" lower="-1.0" upper="1.0" velocity="1.0"/>
    <dynamics damping="0.01" friction="0.0"/>
  </joint>
  <!-- END TESTING OF BASE JOINT (rather than fixed) -->
  <link name="finger_2_segment_link_1">
    <inertial>
      <mass value="0.013055555555555555"/>
      <inertia ixx="3.137739583333333e-05" ixy="0.00" ixz="0.00" iyy="0.00048070609953703705" iyz="0.00" izz="0.0005119953703703703"/>
    </inertial>
    <visual>
      <origin rpy="0 0 0" xyz="0.0235 0 0"/>
      <geometry>
        <box size="0.047 0.024 0.0009"/>
      </geometry>
    </visual>
    <collision>
      <origin rpy="0 0 0" xyz="0.0235 0 0"/>
      <geometry>
        <box size="0.047 0.024 0.0009"/>
      </geometry>
    </collision>
  </link>
  <gazebo reference="finger_2_segment_link_1">
    <material>Gazebo/Orange</material>
    <mu1>0.1</mu1>
    <mu2>0.1</mu2>
    <maxVel>0.0</maxVel>
    <minDepth>0.001</minDepth>
    <!-- <kp>100</kp>
        <kd>1</kd> -->
  </gazebo>
  <link name="finger_2_segment_link_2">
    <inertial>
      <mass value="0.013055555555555555"/>
      <inertia ixx="3.137739583333333e-05" ixy="0.00" ixz="0.00" iyy="0.00048070609953703705" iyz="0.00" izz="0.0005119953703703703"/>
    </inertial>
    <visual>
      <origin rpy="0 0 0" xyz="0.0235 0 0"/>
      <geometry>
        <box size="0.047 0.024 0.0009"/>
      </geometry>
    </visual>
    <collision>
      <origin rpy="0 0 0" xyz="0.0235 0 0"/>
      <geometry>
        <box size="0.047 0.024 0.0009"/>
      </geometry>
    </collision>
  </link>
  <gazebo reference="finger_2_segment_link_2">
    <material>Gazebo/Orange</material>
    <mu1>0.1</mu1>
    <mu2>0.1</mu2>
    <maxVel>0.0</maxVel>
    <minDepth>0.001</minDepth>
    <!-- <kp>100</kp>
        <kd>1</kd> -->
  </gazebo>
  <!-- bending joint -->
  <joint name="finger_2_segment_joint_1" type="revolute">
    <axis rpy="0 0 0" xyz="0 1 0"/>
    <parent link="finger_2_segment_link_1"/>
    <child link="finger_2_segment_link_2"/>
    <origin rpy="0 0 0" xyz="0.047 0 0"/>
    <limit effort="1000.0" lower="-1.0" upper="1.0" velocity="1.0"/>
    <dynamics damping="0.01" friction="0.0"/>
  </joint>
  <gazebo reference="finger_2_segment_joint_1">
    <provideFeedback>1</provideFeedback>
    <springReference>0.0</springReference>
    <implicitSpringDamper>1</implicitSpringDamper>
    <springStiffness>3.0</springStiffness>
  </gazebo>
  <!-- set transmission for gazebo ROS controllers-->
  <transmission name="finger_2_segment_tran_1">
    <type>transmission_interface/SimpleTransmission</type>
    <joint name="finger_2_segment_joint_1">
      <hardwareInterface>hardware_interface/EffortJointInterface</hardwareInterface>
    </joint>
    <actuator name="finger_2_segment_motor_1">
      <hardwareInterface>hardware_interface/EffortJointInterface</hardwareInterface>
      <mechanicalReduction>1</mechanicalReduction>
    </actuator>
  </transmission>
  <link name="finger_2_segment_link_3">
    <inertial>
      <mass value="0.013055555555555555"/>
      <inertia ixx="3.137739583333333e-05" ixy="0.00" ixz="0.00" iyy="0.00048070609953703705" iyz="0.00" izz="0.0005119953703703703"/>
    </inertial>
    <visual>
      <origin rpy="0 0 0" xyz="0.0235 0 0"/>
      <geometry>
        <box size="0.047 0.024 0.0009"/>
      </geometry>
    </visual>
    <collision>
      <origin rpy="0 0 0" xyz="0.0235 0 0"/>
      <geometry>
        <box size="0.047 0.024 0.0009"/>
      </geometry>
    </collision>
  </link>
  <gazebo reference="finger_2_segment_link_3">
    <material>Gazebo/Orange</material>
    <mu1>0.1</mu1>
    <mu2>0.1</mu2>
    <maxVel>0.0</maxVel>
    <minDepth>0.001</minDepth>
    <!-- <kp>100</kp>
        <kd>1</kd> -->
  </gazebo>
  <!-- bending joint -->
  <joint name="finger_2_segment_joint_2" type="revolute">
    <axis rpy="0 0 0" xyz="0 1 0"/>
    <parent link="finger_2_segment_link_2"/>
    <child link="finger_2_segment_link_3"/>
    <origin rpy="0 0 0" xyz="0.047 0 0"/>
    <limit effort="1000.0" lower="-1.0" upper="1.0" velocity="1.0"/>
    <dynamics damping="0.01" friction="0.0"/>
  </joint>
  <gazebo reference="finger_2_segment_joint_2">
    <provideFeedback>1</provideFeedback>
    <springReference>0.0</springReference>
    <implicitSpringDamper>1</implicitSpringDamper>
    <springStiffness>3.0</springStiffness>
  </gazebo>
  <!-- set transmission for gazebo ROS controllers-->
  <transmission name="finger_2_segment_tran_2">
    <type>transmission_interface/SimpleTransmission</type>
    <joint name="finger_2_segment_joint_2">
      <hardwareInterface>hardware_interface/EffortJointInterface</hardwareInterface>
    </joint>
    <actuator name="finger_2_segment_motor_2">
      <hardwareInterface>hardware_interface/EffortJointInterface</hardwareInterface>
      <mechanicalReduction>1</mechanicalReduction>
    </actuator>
  </transmission>
  <link name="finger_2_segment_link_4">
    <inertial>
      <mass value="0.013055555555555555"/>
      <inertia ixx="3.137739583333333e-05" ixy="0.00" ixz="0.00" iyy="0.00048070609953703705" iyz="0.00" izz="0.0005119953703703703"/>
    </inertial>
    <visual>
      <origin rpy="0 0 0" xyz="0.0235 0 0"/>
      <geometry>
        <box size="0.047 0.024 0.0009"/>
      </geometry>
    </visual>
    <collision>
      <origin rpy="0 0 0" xyz="0.0235 0 0"/>
      <geometry>
        <box size="0.047 0.024 0.0009"/>
      </geometry>
    </collision>
  </link>
  <gazebo reference="finger_2_segment_link_4">
    <material>Gazebo/Orange</material>
    <mu1>0.1</mu1>
    <mu2>0.1</mu2>
    <maxVel>0.0</maxVel>
    <minDepth>0.001</minDepth>
    <!-- <kp>100</kp>
        <kd>1</kd> -->
  </gazebo>
  <!-- bending joint -->
  <joint name="finger_2_segment_joint_3" type="revolute">
    <axis rpy="0 0 0" xyz="0 1 0"/>
    <parent link="finger_2_segment_link_3"/>
    <child link="finger_2_segment_link_4"/>
    <origin rpy="0 0 0" xyz="0.047 0 0"/>
    <limit effort="1000.0" lower="-1.0" upper="1.0" velocity="1.0"/>
    <dynamics damping="0.01" friction="0.0"/>
  </joint>
  <gazebo reference="finger_2_segment_joint_3">
    <provideFeedback>1</provideFeedback>
    <springReference>0.0</springReference>
    <implicitSpringDamper>1</implicitSpringDamper>
    <springStiffness>3.0</springStiffness>
  </gazebo>
  <!-- set transmission for gazebo ROS controllers-->
  <transmission name="finger_2_segment_tran_3">
    <type>transmission_interface/SimpleTransmission</type>
    <joint name="finger_2_segment_joint_3">
      <hardwareInterface>hardware_interface/EffortJointInterface</hardwareInterface>
    </joint>
    <actuator name="finger_2_segment_motor_3">
      <hardwareInterface>hardware_interface/EffortJointInterface</hardwareInterface>
      <mechanicalReduction>1</mechanicalReduction>
    </actuator>
  </transmission>
  <link name="finger_2_segment_link_5">
    <inertial>
      <mass value="0.013055555555555555"/>
      <inertia ixx="3.137739583333333e-05" ixy="0.00" ixz="0.00" iyy="0.00048070609953703705" iyz="0.00" izz="0.0005119953703703703"/>
    </inertial>
    <visual>
      <origin rpy="0 0 0" xyz="0.0235 0 0"/>
      <geometry>
        <box size="0.047 0.024 0.0009"/>
      </geometry>
    </visual>
    <collision>
      <origin rpy="0 0 0" xyz="0.0235 0 0"/>
      <geometry>
        <box size="0.047 0.024 0.0009"/>
      </geometry>
    </collision>
  </link>
  <gazebo reference="finger_2_segment_link_5">
    <material>Gazebo/Orange</material>
    <mu1>0.1</mu1>
    <mu2>0.1</mu2>
    <maxVel>0.0</maxVel>
    <minDepth>0.001</minDepth>
    <!-- <kp>100</kp>
        <kd>1</kd> -->
  </gazebo>
  <!-- bending joint -->
  <joint name="finger_2_segment_joint_4" type="revolute">
    <axis rpy="0 0 0" xyz="0 1 0"/>
    <parent link="finger_2_segment_link_4"/>
    <child link="finger_2_segment_link_5"/>
    <origin rpy="0 0 0" xyz="0.047 0 0"/>
    <limit effort="1000.0" lower="-1.0" upper="1.0" velocity="1.0"/>
    <dynamics damping="0.01" friction="0.0"/>
  </joint>
  <gazebo reference="finger_2_segment_joint_4">
    <provideFeedback>1</provideFeedback>
    <springReference>0.0</springReference>
    <implicitSpringDamper>1</implicitSpringDamper>
    <springStiffness>3.0</springStiffness>
  </gazebo>
  <!-- set transmission for gazebo ROS controllers-->
  <transmission name="finger_2_segment_tran_4">
    <type>transmission_interface/SimpleTransmission</type>
    <joint name="finger_2_segment_joint_4">
      <hardwareInterface>hardware_interface/EffortJointInterface</hardwareInterface>
    </joint>
    <actuator name="finger_2_segment_motor_4">
      <hardwareInterface>hardware_interface/EffortJointInterface</hardwareInterface>
      <mechanicalReduction>1</mechanicalReduction>
    </actuator>
  </transmission>
  <!-- Add the finger hook link -->
  <link name="finger_2_finger_hook_link">
    <inertial>
      <mass value="0.009722222222222222"/>
      <inertia ixx="2.336614583333333e-05" ixy="0.00" ixz="0.00" iyy="0.00019852818287037038" iyz="0.00" izz="0.00022182870370370374"/>
    </inertial>
    <visual>
      <origin rpy="0 0 0" xyz="0.0175 0 0"/>
      <geometry>
        <box size="0.035 0.024 0.0009"/>
      </geometry>
    </visual>
    <collision>
      <origin rpy="0 0 0" xyz="0.0175 0 0"/>
      <geometry>
        <box size="0.035 0.024 0.0009"/>
      </geometry>
    </collision>
  </link>
  <gazebo reference="finger_2_finger_hook_link">
    <material>Gazebo/Orange</material>
    <mu1>0.1</mu1>
    <mu2>0.1</mu2>
    <maxVel>0.0</maxVel>
    <minDepth>0.001</minDepth>
    <!-- <kp>100</kp>
        <kd>1</kd> -->
  </gazebo>
  <joint name="finger_2_finger_hook_joint" type="fixed">
    <parent link="finger_2_segment_link_5"/>
    <child link="finger_2_finger_hook_link"/>
    <origin rpy="0 -1.5707963267948502 0" xyz="0.047 0 0"/>
  </joint>
  <!-- PARAMETERS TO BE SET BY HAND -->
  <!-- END OF PARAMETERS TO BE SET BY HAND -->
  <joint name="finger_3_segment_joint_0" type="revolute">
    <origin rpy="1.5707963267948966 0 0" xyz="0.129 -0.007 0"/>
    <parent link="finger_3"/>
    <child link="finger_3_segment_link_1"/>
    <axis rpy="0 0 0" xyz="0 1 0"/>
    <limit effort="1000.0" lower="-1.0" upper="1.0" velocity="1.0"/>
    <dynamics damping="0.01" friction="0.0"/>
  </joint>
  <!-- END TESTING OF BASE JOINT (rather than fixed) -->
  <link name="finger_3_segment_link_1">
    <inertial>
      <mass value="0.013055555555555555"/>
      <inertia ixx="3.137739583333333e-05" ixy="0.00" ixz="0.00" iyy="0.00048070609953703705" iyz="0.00" izz="0.0005119953703703703"/>
    </inertial>
    <visual>
      <origin rpy="0 0 0" xyz="0.0235 0 0"/>
      <geometry>
        <box size="0.047 0.024 0.0009"/>
      </geometry>
    </visual>
    <collision>
      <origin rpy="0 0 0" xyz="0.0235 0 0"/>
      <geometry>
        <box size="0.047 0.024 0.0009"/>
      </geometry>
    </collision>
  </link>
  <gazebo reference="finger_3_segment_link_1">
    <material>Gazebo/Orange</material>
    <mu1>0.1</mu1>
    <mu2>0.1</mu2>
    <maxVel>0.0</maxVel>
    <minDepth>0.001</minDepth>
    <!-- <kp>100</kp>
        <kd>1</kd> -->
  </gazebo>
  <link name="finger_3_segment_link_2">
    <inertial>
      <mass value="0.013055555555555555"/>
      <inertia ixx="3.137739583333333e-05" ixy="0.00" ixz="0.00" iyy="0.00048070609953703705" iyz="0.00" izz="0.0005119953703703703"/>
    </inertial>
    <visual>
      <origin rpy="0 0 0" xyz="0.0235 0 0"/>
      <geometry>
        <box size="0.047 0.024 0.0009"/>
      </geometry>
    </visual>
    <collision>
      <origin rpy="0 0 0" xyz="0.0235 0 0"/>
      <geometry>
        <box size="0.047 0.024 0.0009"/>
      </geometry>
    </collision>
  </link>
  <gazebo reference="finger_3_segment_link_2">
    <material>Gazebo/Orange</material>
    <mu1>0.1</mu1>
    <mu2>0.1</mu2>
    <maxVel>0.0</maxVel>
    <minDepth>0.001</minDepth>
    <!-- <kp>100</kp>
        <kd>1</kd> -->
  </gazebo>
  <!-- bending joint -->
  <joint name="finger_3_segment_joint_1" type="revolute">
    <axis rpy="0 0 0" xyz="0 1 0"/>
    <parent link="finger_3_segment_link_1"/>
    <child link="finger_3_segment_link_2"/>
    <origin rpy="0 0 0" xyz="0.047 0 0"/>
    <limit effort="1000.0" lower="-1.0" upper="1.0" velocity="1.0"/>
    <dynamics damping="0.01" friction="0.0"/>
  </joint>
  <gazebo reference="finger_3_segment_joint_1">
    <provideFeedback>1</provideFeedback>
    <springReference>0.0</springReference>
    <implicitSpringDamper>1</implicitSpringDamper>
    <springStiffness>3.0</springStiffness>
  </gazebo>
  <!-- set transmission for gazebo ROS controllers-->
  <transmission name="finger_3_segment_tran_1">
    <type>transmission_interface/SimpleTransmission</type>
    <joint name="finger_3_segment_joint_1">
      <hardwareInterface>hardware_interface/EffortJointInterface</hardwareInterface>
    </joint>
    <actuator name="finger_3_segment_motor_1">
      <hardwareInterface>hardware_interface/EffortJointInterface</hardwareInterface>
      <mechanicalReduction>1</mechanicalReduction>
    </actuator>
  </transmission>
  <link name="finger_3_segment_link_3">
    <inertial>
      <mass value="0.013055555555555555"/>
      <inertia ixx="3.137739583333333e-05" ixy="0.00" ixz="0.00" iyy="0.00048070609953703705" iyz="0.00" izz="0.0005119953703703703"/>
    </inertial>
    <visual>
      <origin rpy="0 0 0" xyz="0.0235 0 0"/>
      <geometry>
        <box size="0.047 0.024 0.0009"/>
      </geometry>
    </visual>
    <collision>
      <origin rpy="0 0 0" xyz="0.0235 0 0"/>
      <geometry>
        <box size="0.047 0.024 0.0009"/>
      </geometry>
    </collision>
  </link>
  <gazebo reference="finger_3_segment_link_3">
    <material>Gazebo/Orange</material>
    <mu1>0.1</mu1>
    <mu2>0.1</mu2>
    <maxVel>0.0</maxVel>
    <minDepth>0.001</minDepth>
    <!-- <kp>100</kp>
        <kd>1</kd> -->
  </gazebo>
  <!-- bending joint -->
  <joint name="finger_3_segment_joint_2" type="revolute">
    <axis rpy="0 0 0" xyz="0 1 0"/>
    <parent link="finger_3_segment_link_2"/>
    <child link="finger_3_segment_link_3"/>
    <origin rpy="0 0 0" xyz="0.047 0 0"/>
    <limit effort="1000.0" lower="-1.0" upper="1.0" velocity="1.0"/>
    <dynamics damping="0.01" friction="0.0"/>
  </joint>
  <gazebo reference="finger_3_segment_joint_2">
    <provideFeedback>1</provideFeedback>
    <springReference>0.0</springReference>
    <implicitSpringDamper>1</implicitSpringDamper>
    <springStiffness>3.0</springStiffness>
  </gazebo>
  <!-- set transmission for gazebo ROS controllers-->
  <transmission name="finger_3_segment_tran_2">
    <type>transmission_interface/SimpleTransmission</type>
    <joint name="finger_3_segment_joint_2">
      <hardwareInterface>hardware_interface/EffortJointInterface</hardwareInterface>
    </joint>
    <actuator name="finger_3_segment_motor_2">
      <hardwareInterface>hardware_interface/EffortJointInterface</hardwareInterface>
      <mechanicalReduction>1</mechanicalReduction>
    </actuator>
  </transmission>
  <link name="finger_3_segment_link_4">
    <inertial>
      <mass value="0.013055555555555555"/>
      <inertia ixx="3.137739583333333e-05" ixy="0.00" ixz="0.00" iyy="0.00048070609953703705" iyz="0.00" izz="0.0005119953703703703"/>
    </inertial>
    <visual>
      <origin rpy="0 0 0" xyz="0.0235 0 0"/>
      <geometry>
        <box size="0.047 0.024 0.0009"/>
      </geometry>
    </visual>
    <collision>
      <origin rpy="0 0 0" xyz="0.0235 0 0"/>
      <geometry>
        <box size="0.047 0.024 0.0009"/>
      </geometry>
    </collision>
  </link>
  <gazebo reference="finger_3_segment_link_4">
    <material>Gazebo/Orange</material>
    <mu1>0.1</mu1>
    <mu2>0.1</mu2>
    <maxVel>0.0</maxVel>
    <minDepth>0.001</minDepth>
    <!-- <kp>100</kp>
        <kd>1</kd> -->
  </gazebo>
  <!-- bending joint -->
  <joint name="finger_3_segment_joint_3" type="revolute">
    <axis rpy="0 0 0" xyz="0 1 0"/>
    <parent link="finger_3_segment_link_3"/>
    <child link="finger_3_segment_link_4"/>
    <origin rpy="0 0 0" xyz="0.047 0 0"/>
    <limit effort="1000.0" lower="-1.0" upper="1.0" velocity="1.0"/>
    <dynamics damping="0.01" friction="0.0"/>
  </joint>
  <gazebo reference="finger_3_segment_joint_3">
    <provideFeedback>1</provideFeedback>
    <springReference>0.0</springReference>
    <implicitSpringDamper>1</implicitSpringDamper>
    <springStiffness>3.0</springStiffness>
  </gazebo>
  <!-- set transmission for gazebo ROS controllers-->
  <transmission name="finger_3_segment_tran_3">
    <type>transmission_interface/SimpleTransmission</type>
    <joint name="finger_3_segment_joint_3">
      <hardwareInterface>hardware_interface/EffortJointInterface</hardwareInterface>
    </joint>
    <actuator name="finger_3_segment_motor_3">
      <hardwareInterface>hardware_interface/EffortJointInterface</hardwareInterface>
      <mechanicalReduction>1</mechanicalReduction>
    </actuator>
  </transmission>
  <link name="finger_3_segment_link_5">
    <inertial>
      <mass value="0.013055555555555555"/>
      <inertia ixx="3.137739583333333e-05" ixy="0.00" ixz="0.00" iyy="0.00048070609953703705" iyz="0.00" izz="0.0005119953703703703"/>
    </inertial>
    <visual>
      <origin rpy="0 0 0" xyz="0.0235 0 0"/>
      <geometry>
        <box size="0.047 0.024 0.0009"/>
      </geometry>
    </visual>
    <collision>
      <origin rpy="0 0 0" xyz="0.0235 0 0"/>
      <geometry>
        <box size="0.047 0.024 0.0009"/>
      </geometry>
    </collision>
  </link>
  <gazebo reference="finger_3_segment_link_5">
    <material>Gazebo/Orange</material>
    <mu1>0.1</mu1>
    <mu2>0.1</mu2>
    <maxVel>0.0</maxVel>
    <minDepth>0.001</minDepth>
    <!-- <kp>100</kp>
        <kd>1</kd> -->
  </gazebo>
  <!-- bending joint -->
  <joint name="finger_3_segment_joint_4" type="revolute">
    <axis rpy="0 0 0" xyz="0 1 0"/>
    <parent link="finger_3_segment_link_4"/>
    <child link="finger_3_segment_link_5"/>
    <origin rpy="0 0 0" xyz="0.047 0 0"/>
    <limit effort="1000.0" lower="-1.0" upper="1.0" velocity="1.0"/>
    <dynamics damping="0.01" friction="0.0"/>
  </joint>
  <gazebo reference="finger_3_segment_joint_4">
    <provideFeedback>1</provideFeedback>
    <springReference>0.0</springReference>
    <implicitSpringDamper>1</implicitSpringDamper>
    <springStiffness>3.0</springStiffness>
  </gazebo>
  <!-- set transmission for gazebo ROS controllers-->
  <transmission name="finger_3_segment_tran_4">
    <type>transmission_interface/SimpleTransmission</type>
    <joint name="finger_3_segment_joint_4">
      <hardwareInterface>hardware_interface/EffortJointInterface</hardwareInterface>
    </joint>
    <actuator name="finger_3_segment_motor_4">
      <hardwareInterface>hardware_interface/EffortJointInterface</hardwareInterface>
      <mechanicalReduction>1</mechanicalReduction>
    </actuator>
  </transmission>
  <!-- Add the finger hook link -->
  <link name="finger_3_finger_hook_link">
    <inertial>
      <mass value="0.009722222222222222"/>
      <inertia ixx="2.336614583333333e-05" ixy="0.00" ixz="0.00" iyy="0.00019852818287037038" iyz="0.00" izz="0.00022182870370370374"/>
    </inertial>
    <visual>
      <origin rpy="0 0 0" xyz="0.0175 0 0"/>
      <geometry>
        <box size="0.035 0.024 0.0009"/>
      </geometry>
    </visual>
    <collision>
      <origin rpy="0 0 0" xyz="0.0175 0 0"/>
      <geometry>
        <box size="0.035 0.024 0.0009"/>
      </geometry>
    </collision>
  </link>
  <gazebo reference="finger_3_finger_hook_link">
    <material>Gazebo/Orange</material>
    <mu1>0.1</mu1>
    <mu2>0.1</mu2>
    <maxVel>0.0</maxVel>
    <minDepth>0.001</minDepth>
    <!-- <kp>100</kp>
        <kd>1</kd> -->
  </gazebo>
  <joint name="finger_3_finger_hook_joint" type="fixed">
    <parent link="finger_3_segment_link_5"/>
    <child link="finger_3_finger_hook_link"/>
    <origin rpy="0 -1.5707963267948502 0" xyz="0.047 0 0"/>
  </joint>
  <gazebo>
    <plugin filename="libfinger_controller_plugin.so" name="finger_controller_plugin"/>
  </gazebo>
  <!-- connect the panda to the ground -->
  <link name="world"/>
  <joint name="world_to_base" type="fixed">
    <origin rpy="0 0 0" xyz="0 0 0"/>
    <parent link="world"/>
    <child link="panda_link0"/>
  </joint>
  <!-- connect the gripper to the panda -->
  <!-- TODO verify these values -->
  <joint name="panda_to_eef_base_joint" type="fixed">
    <origin rpy="0 0 -0.7853981633974483" xyz="0 0 0.25"/>
    <parent link="panda_link7"/>
    <child link="gripper_base_link"/>
  </joint>
  <gazebo>
    <plugin filename="libreset_joints_plugin.so" name="reset_joints_plugin"/>
  </gazebo>
</robot>
